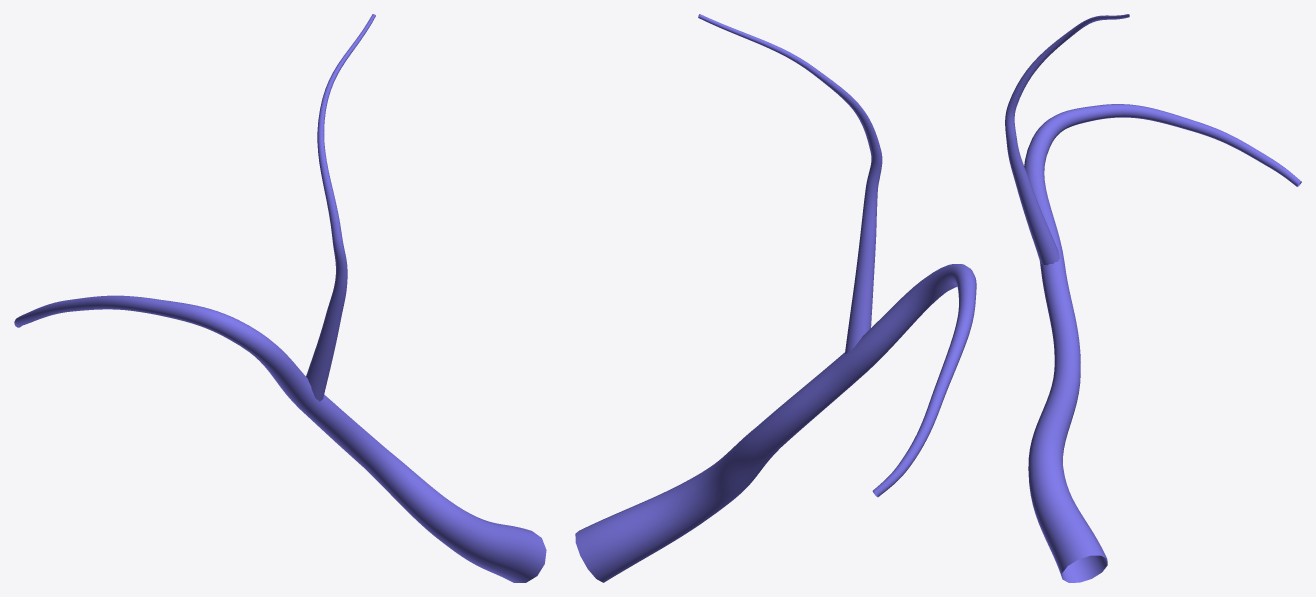
File: Anterior_circumflex_humeral_vein.r_BezierCurve.309.glb
The picture shows the model from 3 angles, left to right: view 1: azimuth 30°, elevation 25°; view 2: azimuth 150°, elevation 25°; view 3: azimuth 270°, elevation 25°; orthographic projection. The views are drawn at different scales.
Visible parts, largest first — view 1: Anterior_circumflex_humeral_vein.r_BezierCurve.309; view 2: Anterior_circumflex_humeral_vein.r_BezierCurve.309; view 3: Anterior_circumflex_humeral_vein.r_BezierCurve.309.
Boxes of the visible parts, x1,y1,x2,y2 form: Anterior_circumflex_humeral_vein.r_BezierCurve.309: (14,14,546,582); Anterior_circumflex_humeral_vein.r_BezierCurve.309: (575,14,976,582); Anterior_circumflex_humeral_vein.r_BezierCurve.309: (1005,14,1301,582).
Size of the model in its own units: 0.0481 by 0.0635 by 0.0329.
